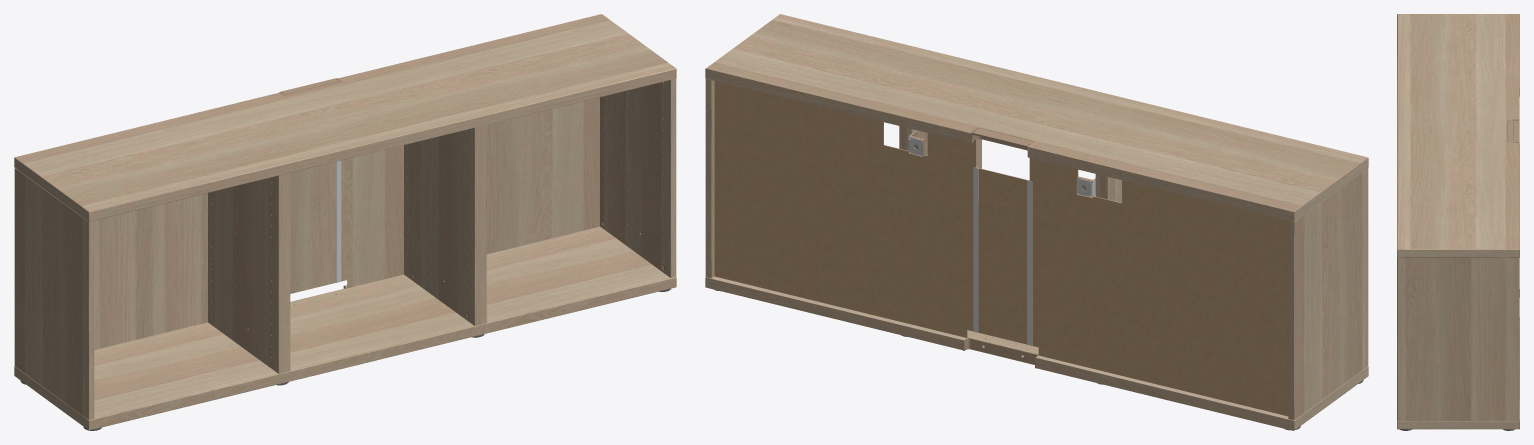
File: besta_szafka_pod_tv_70299884.glb
3 views of the same model, side by side, from view 1: azimuth 30°, elevation 25°; view 2: azimuth 150°, elevation 25°; view 3: azimuth 270°, elevation 25° (orthographic). The views are drawn at different scales.
Visible parts, largest first — view 1: besta_szafka_pod_tv_70299884; view 2: besta_szafka_pod_tv_70299884; view 3: besta_szafka_pod_tv_70299884.
Part boxes in pixels (x1,y1,x2,y2): besta_szafka_pod_tv_70299884: [14, 14, 676, 430]; besta_szafka_pod_tv_70299884: [705, 14, 1368, 430]; besta_szafka_pod_tv_70299884: [1397, 14, 1519, 430].
Bounding box in the file's own units: 1.8 × 0.6501 × 0.3961.
1 material, 1 textured.
